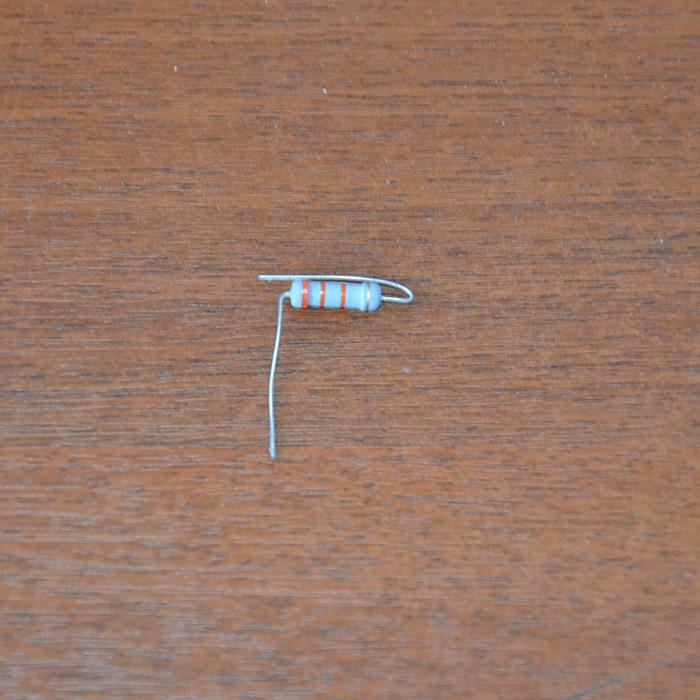resistor: (287, 277, 382, 312)
